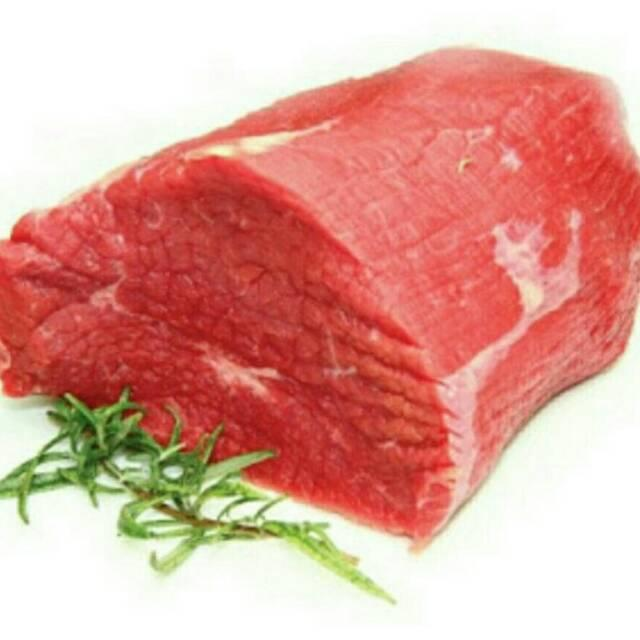Beef: (5, 29, 639, 548)
